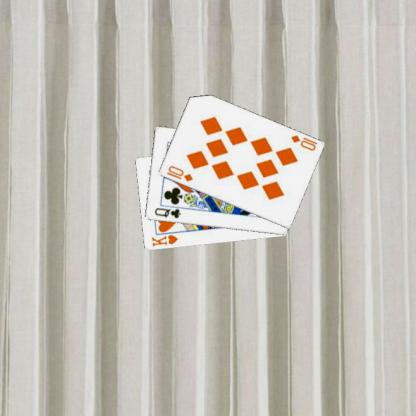10D: (164, 163, 194, 183), (288, 132, 318, 152)
KH: (148, 232, 179, 248)
QC: (152, 205, 182, 220)
